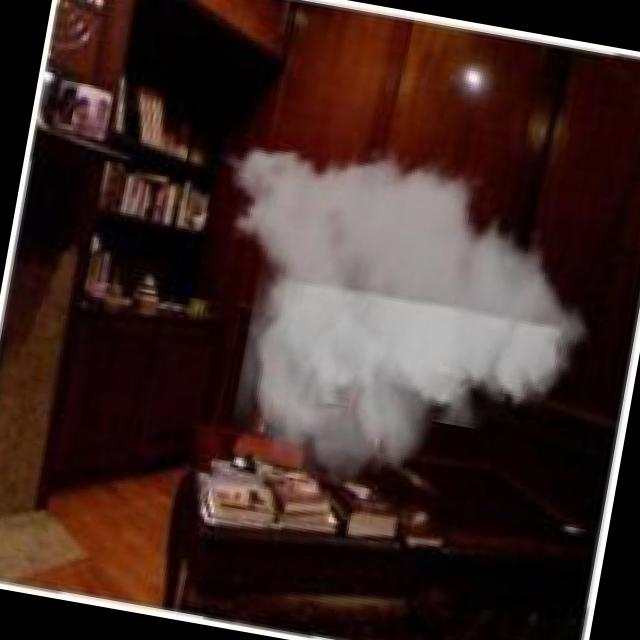Smoke: (164, 113, 626, 526)
